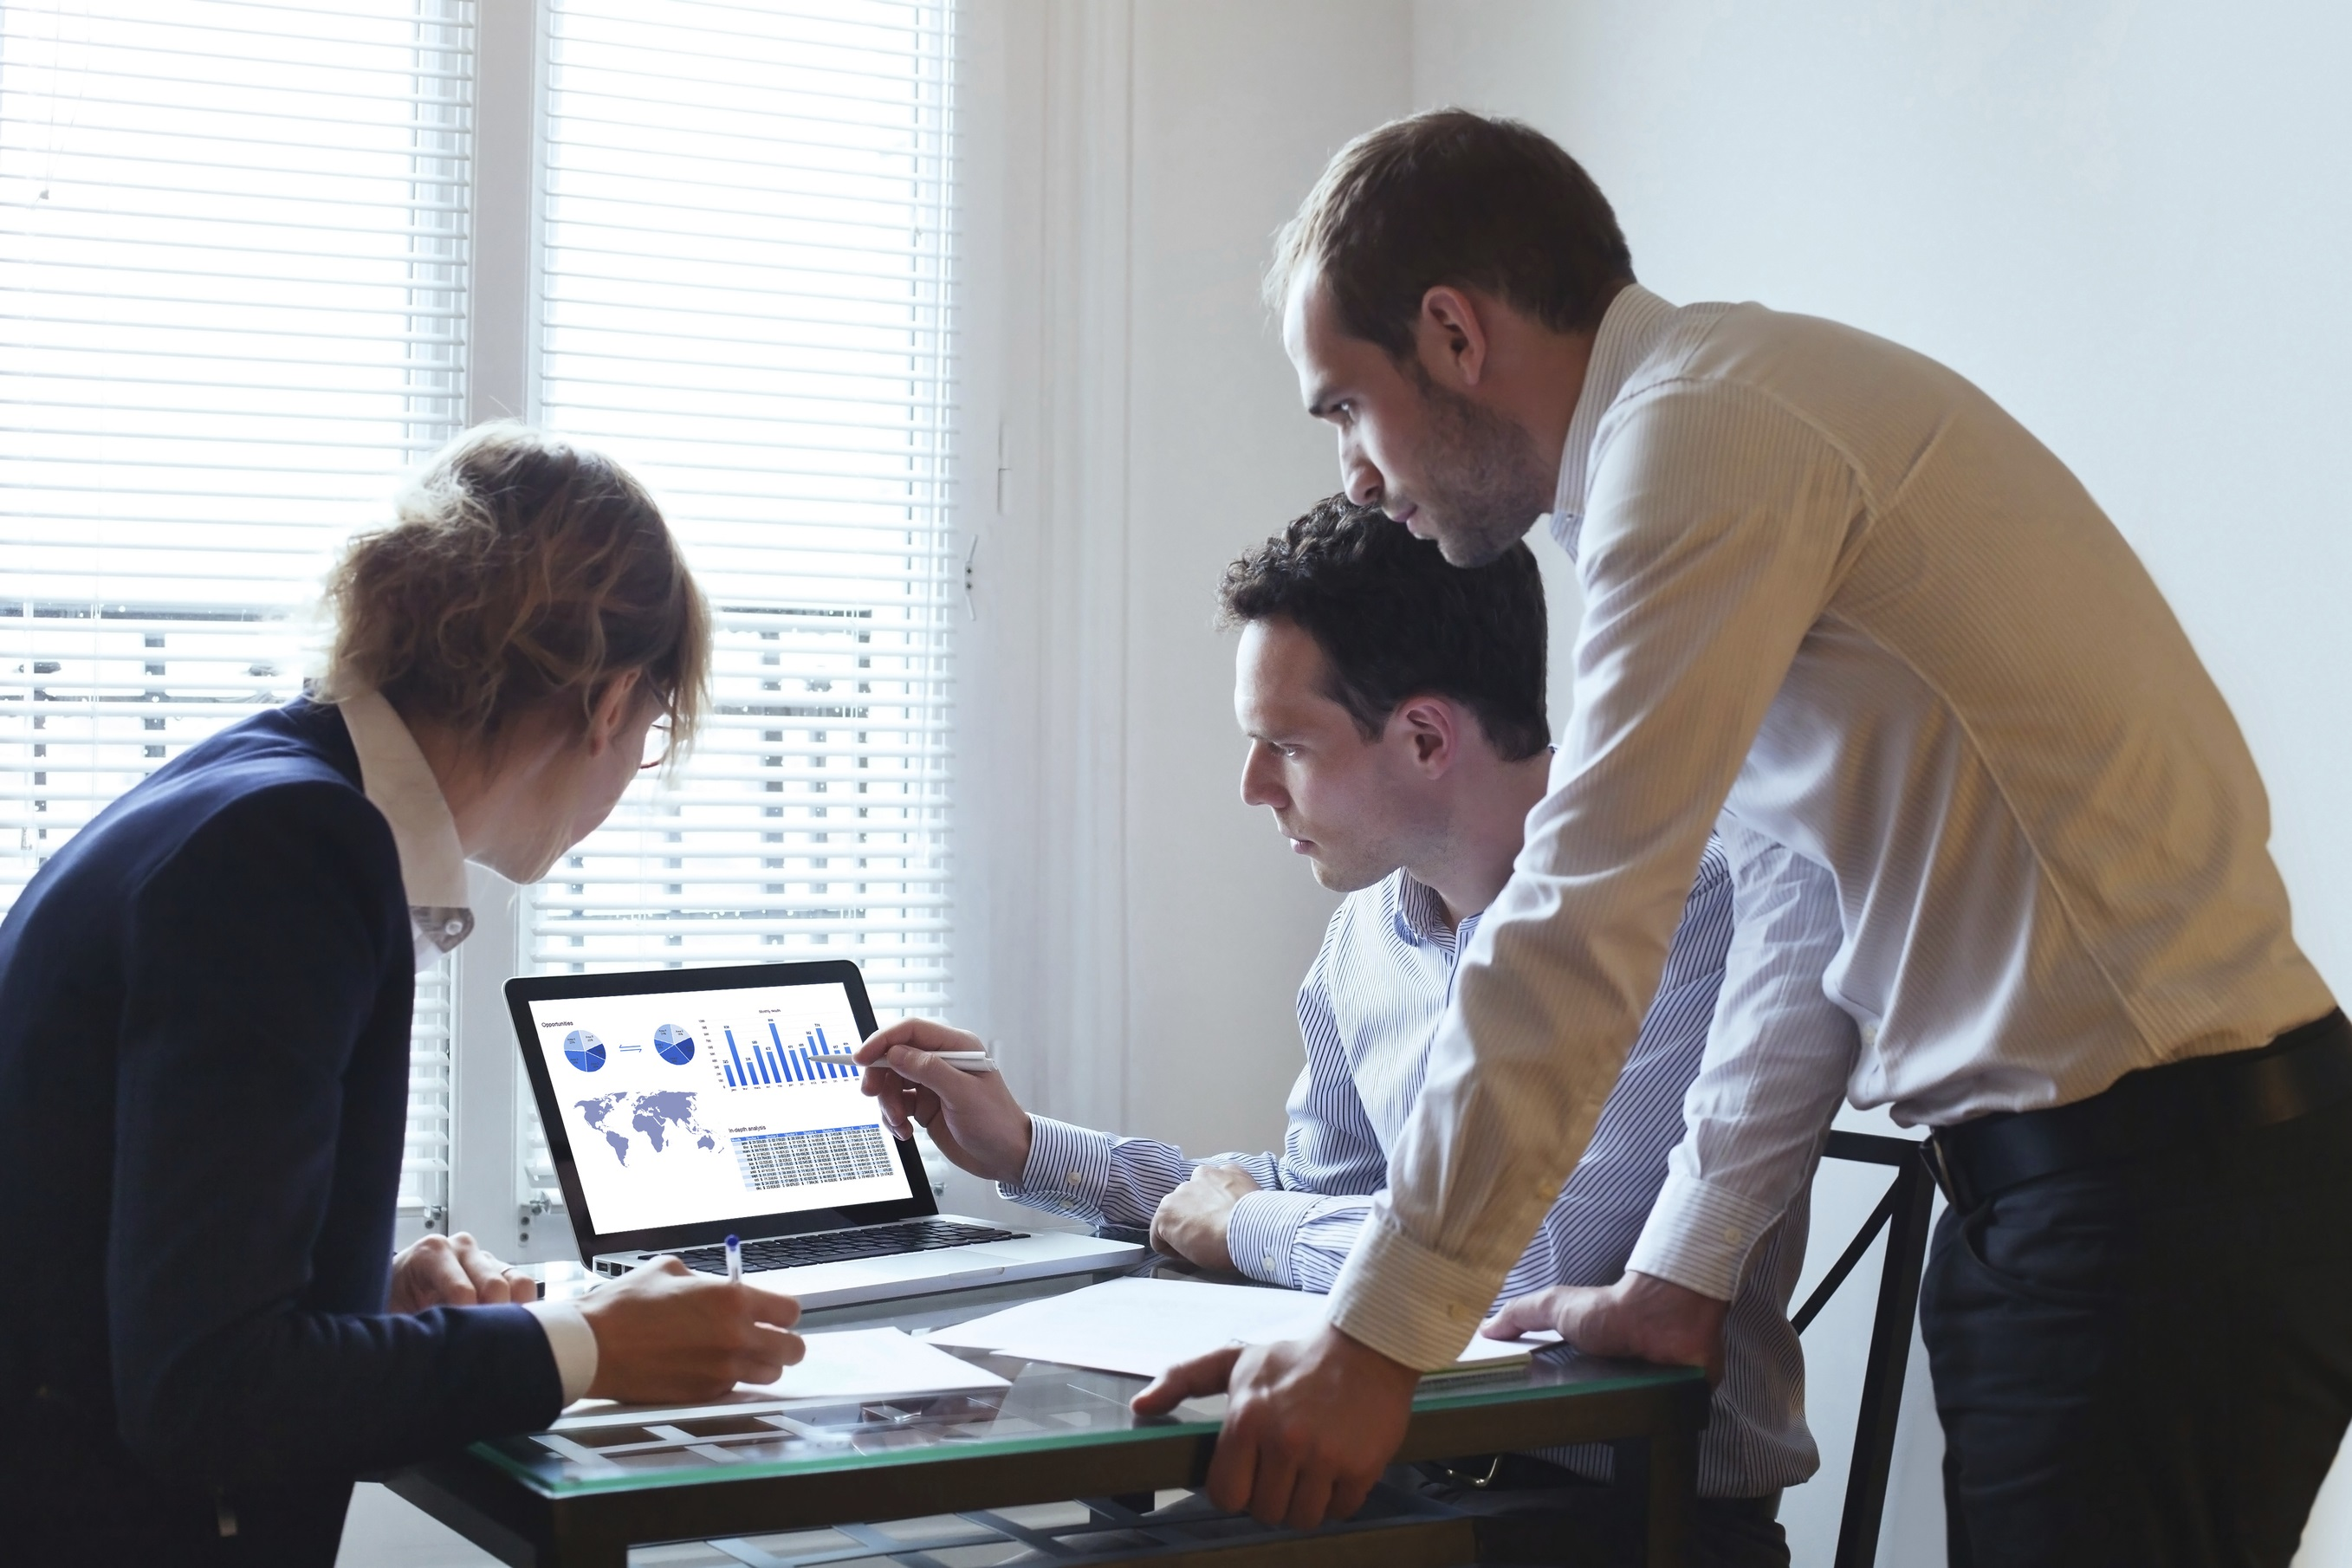Person: (1129, 107, 2352, 1568), (852, 489, 1817, 1568), (1, 414, 807, 1568)
